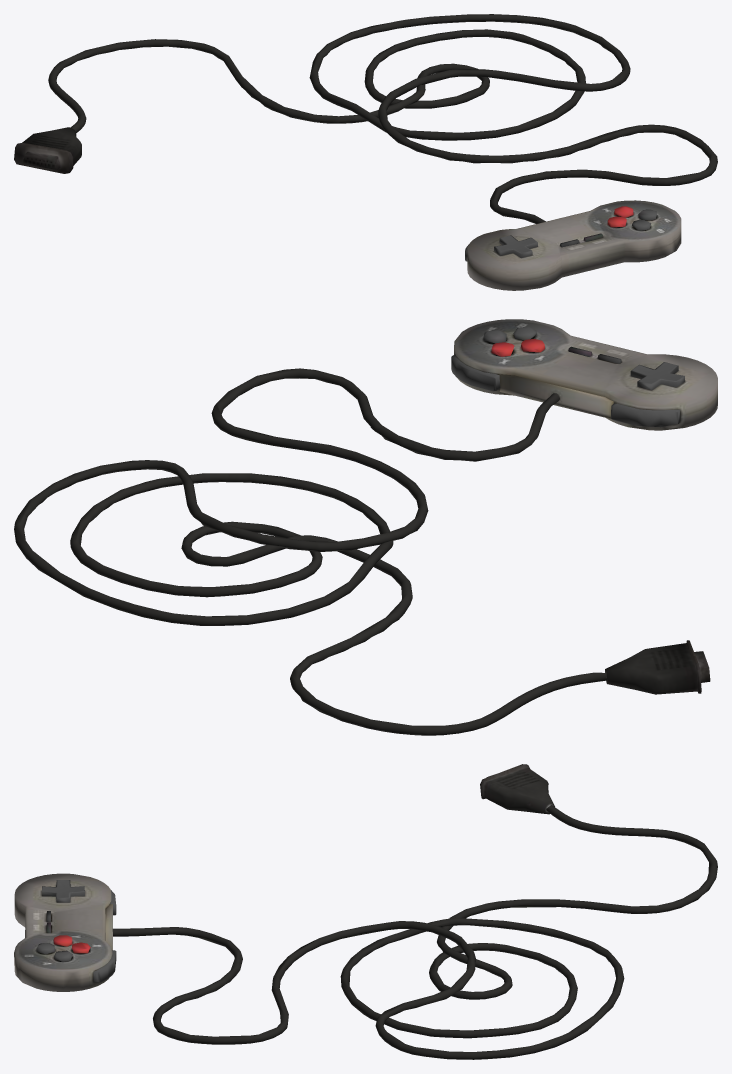
Rendered from gamepad.glb.
The picture shows the model from 3 angles, top to bottom: view 1: azimuth 30°, elevation 25°; view 2: azimuth 150°, elevation 25°; view 3: azimuth 270°, elevation 25°; orthographic projection. The views are drawn at different scales.
Parts seen in each view (by area): view 1: gamepad; view 2: gamepad; view 3: gamepad.
Boxes of the visible parts, x1,y1,x2,y2 form: gamepad: [14, 14, 717, 290]; gamepad: [14, 319, 717, 735]; gamepad: [14, 764, 717, 1059].
Size of the model in its own units: 0.4041 by 0.0187 by 0.435.
Materials: 1 (1 with a texture image).
